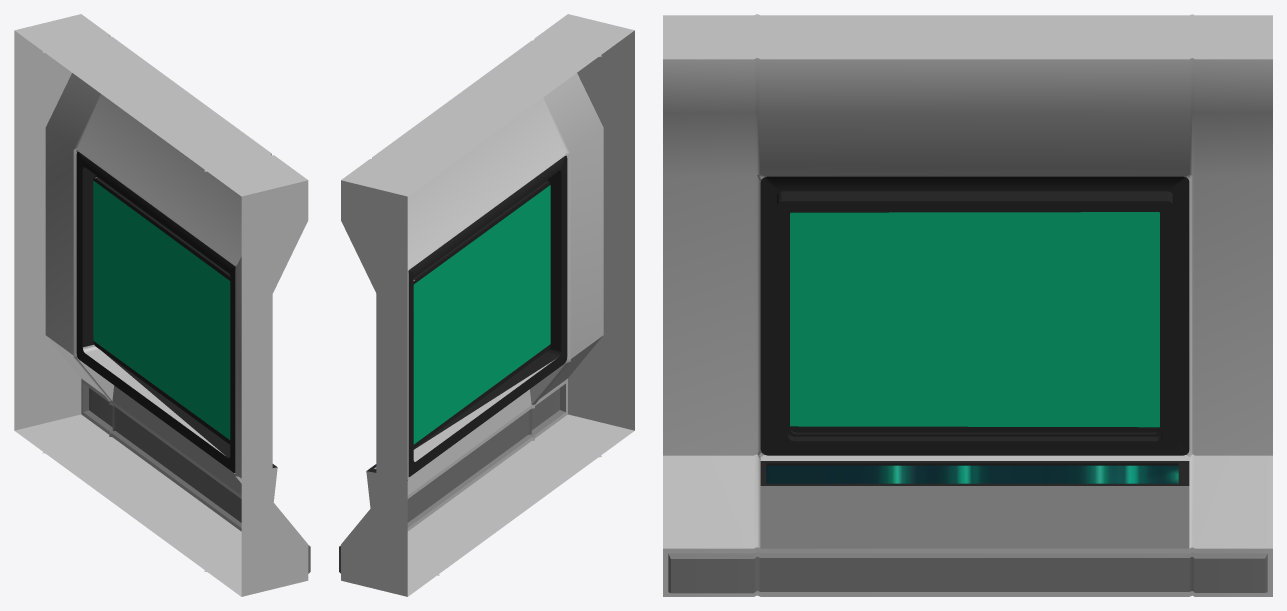
File: Wall.fbx
The picture shows the model from 3 angles, left to right: view 1: azimuth 30°, elevation 25°; view 2: azimuth 150°, elevation 25°; view 3: azimuth 270°, elevation 25°; orthographic projection. The views are drawn at different scales.
Parts seen in each view (by area): view 1: wallscreen; view 2: wallscreen; view 3: wallscreen.
Part boxes in pixels (x1,y1,x2,y2): wallscreen: [14, 14, 310, 596]; wallscreen: [339, 14, 634, 596]; wallscreen: [663, 14, 1272, 596].
Size of the model in its own units: 58.67 by 300 by 308.
